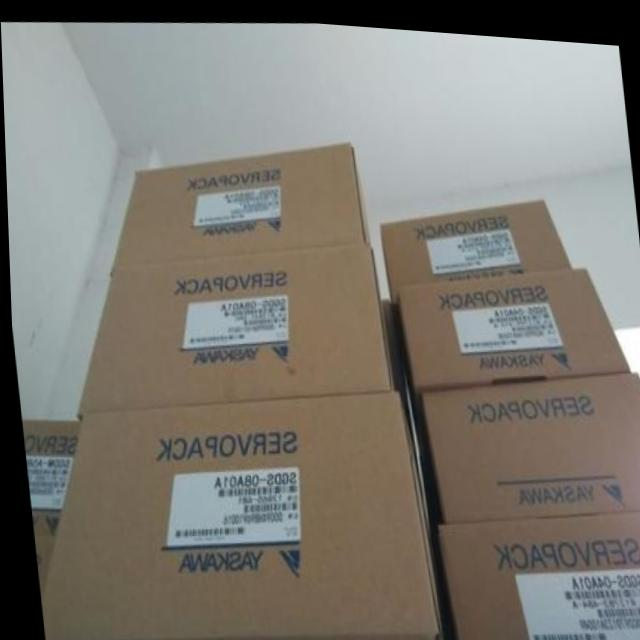box: (36, 385, 437, 640), (73, 238, 387, 413), (395, 259, 628, 462), (417, 361, 640, 565), (109, 137, 364, 267), (433, 500, 640, 640), (379, 190, 569, 295), (18, 419, 77, 602)
